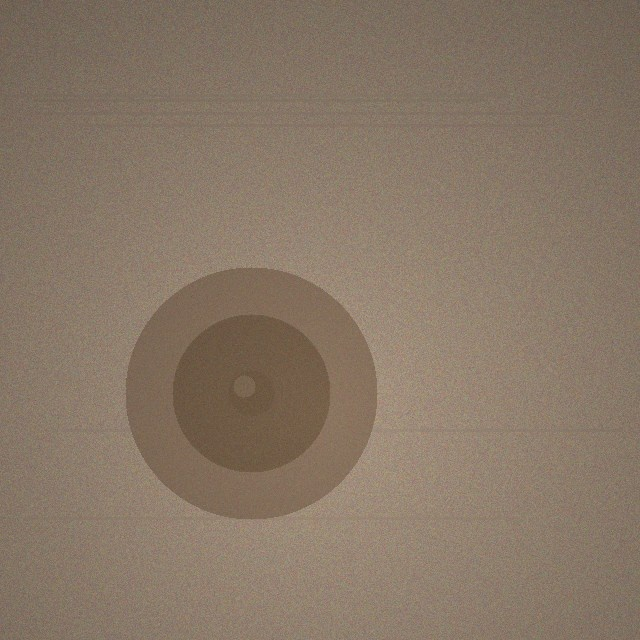good: (125, 267, 377, 519)
